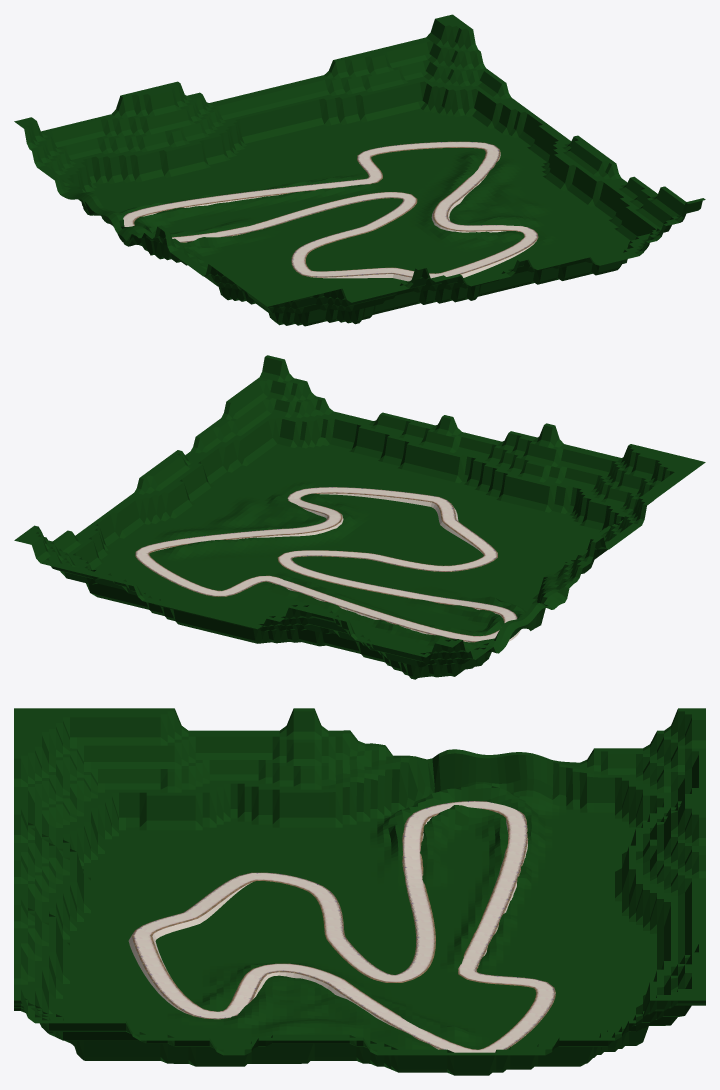
File: track_04.glb
3 views of the same model, one above another, from view 1: azimuth 30°, elevation 25°; view 2: azimuth 150°, elevation 25°; view 3: azimuth 270°, elevation 25° (orthographic). The views are drawn at different scales.
Visible parts, largest first — view 1: Plane-col, roadmesh-col; view 2: Plane-col, roadmesh-col; view 3: Plane-col, roadmesh-col.
Part boxes in pixels (x1,y1,x2,y2): Plane-col: (14,14,705,326); roadmesh-col: (123,141,538,281); Plane-col: (14,355,705,679); roadmesh-col: (135,487,520,642); Plane-col: (14,708,705,1075); roadmesh-col: (128,801,555,1052).
Size of the model in its own units: 68.08 by 9.8 by 68.08.
Materials: 2 (1 with a texture image).
